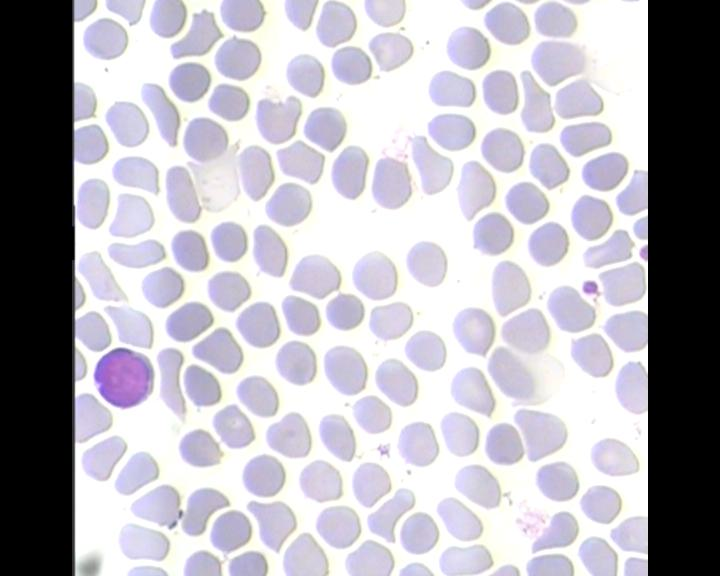lymp: (89, 341, 155, 411)
